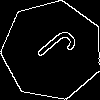J: (27, 25, 80, 75)
